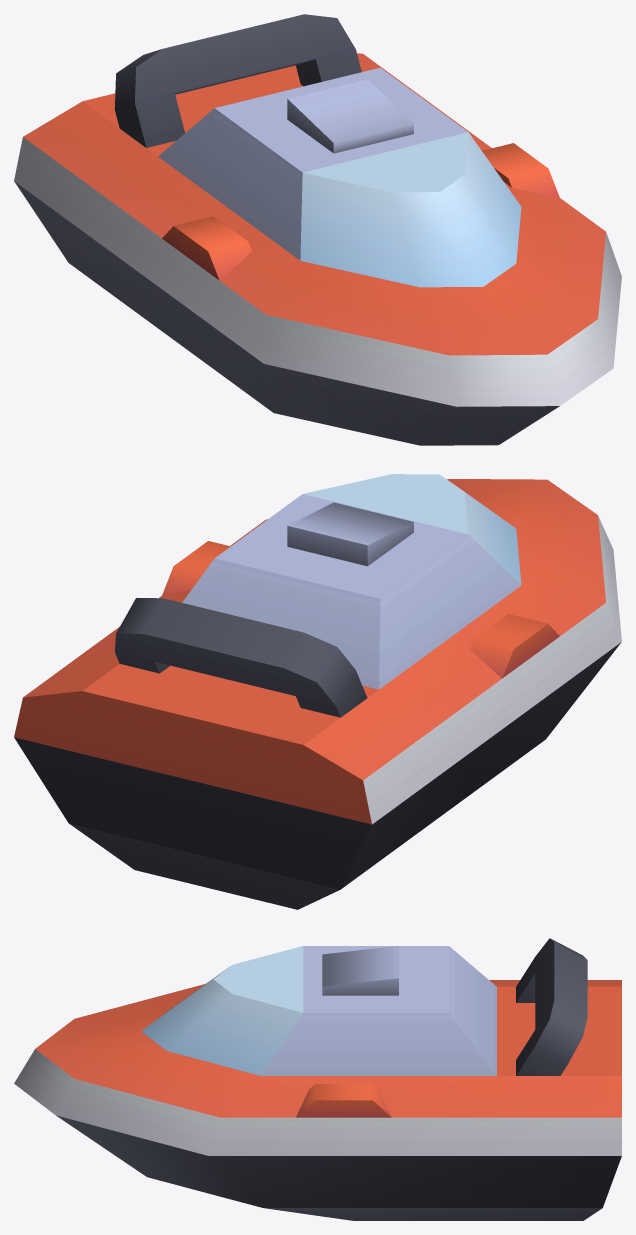
File: boat-speed-c.glb
3 views of the same model, one above another, from view 1: azimuth 30°, elevation 25°; view 2: azimuth 150°, elevation 25°; view 3: azimuth 270°, elevation 25° (orthographic). The views are drawn at different scales.
Parts seen in each view (by area): view 1: boat-speed-c; view 2: boat-speed-c; view 3: boat-speed-c.
Boxes of the visible parts, box(x1,y1,x2,y2) form: boat-speed-c: box(14, 14, 621, 445); boat-speed-c: box(14, 474, 621, 909); boat-speed-c: box(14, 938, 621, 1220).
Bounding box in the file's own units: 1.78 × 1.3 × 3.17.
1 material, 1 textured.
